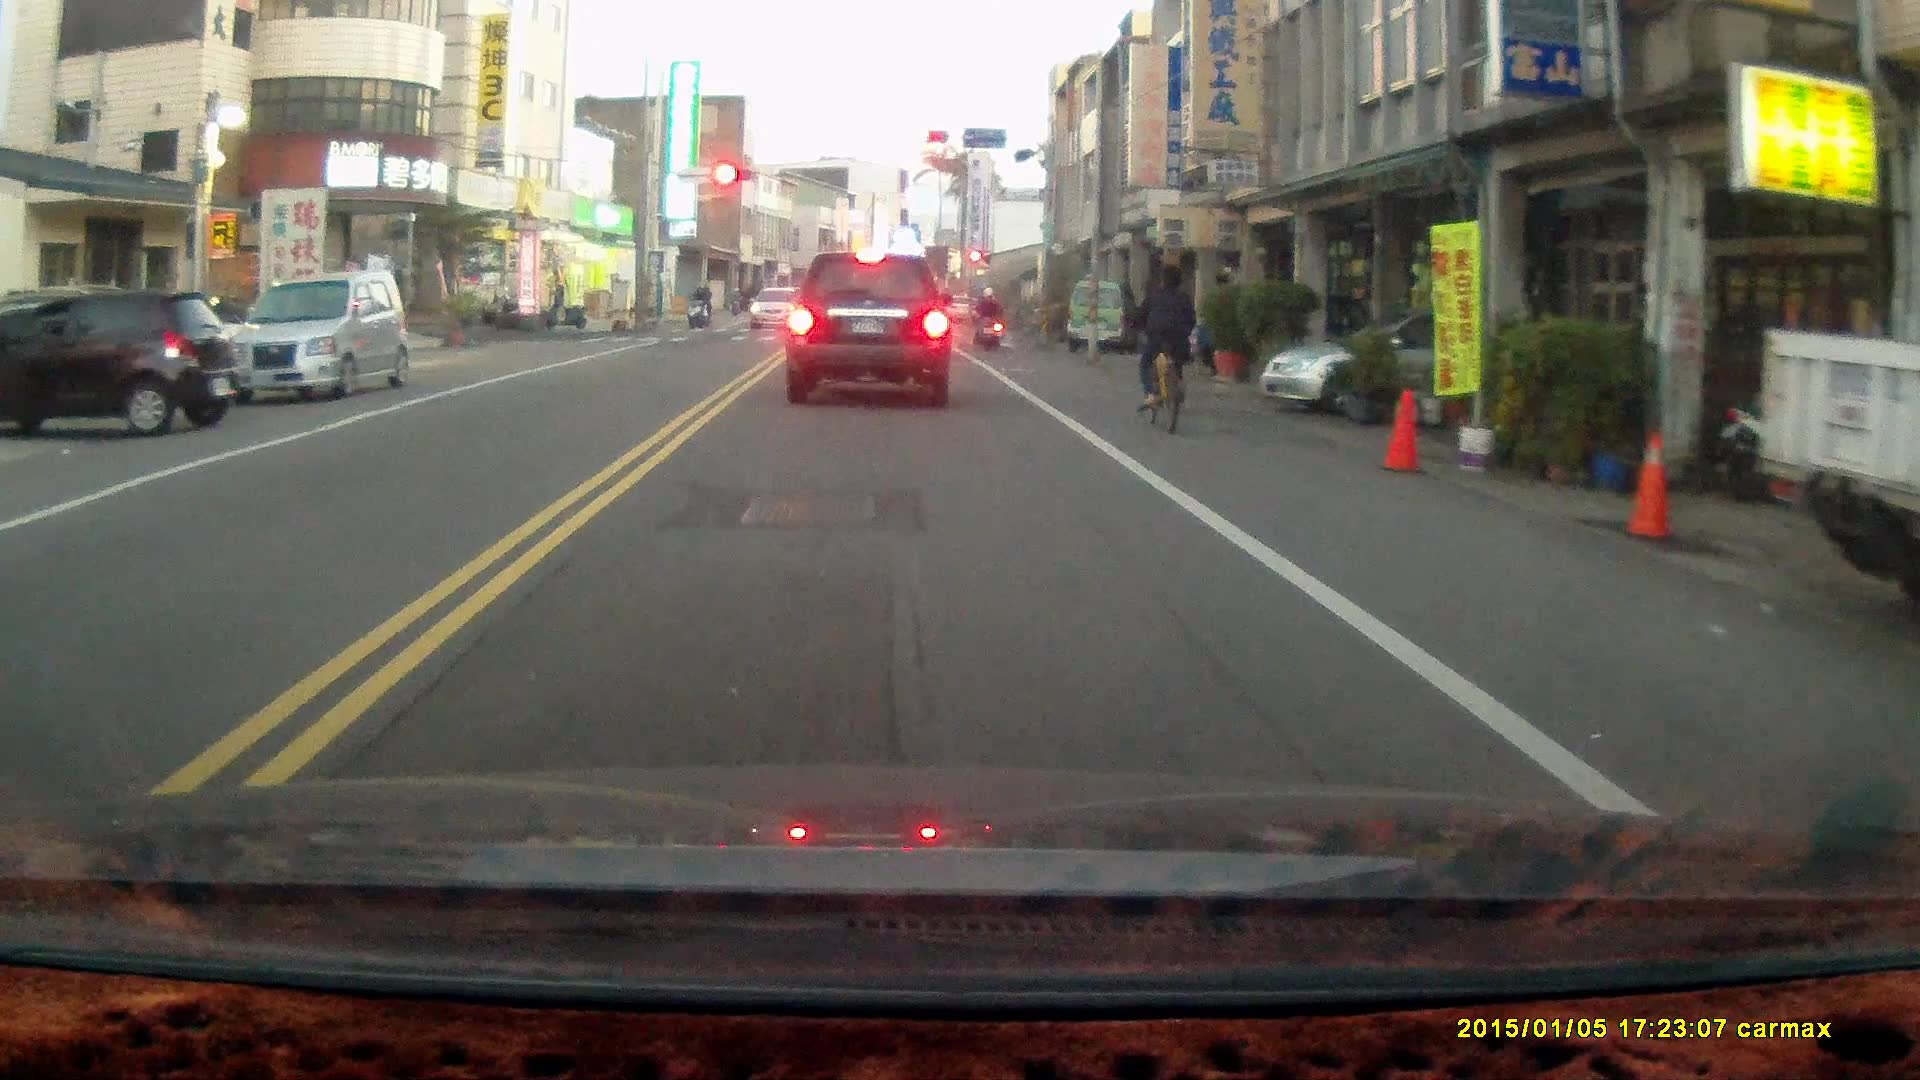rider: (1132, 265, 1196, 437), (968, 282, 1003, 350), (683, 280, 708, 330)
vehicle: (2, 288, 252, 443), (1255, 311, 1576, 420), (784, 251, 956, 410), (223, 268, 413, 402), (1064, 287, 1134, 363)
